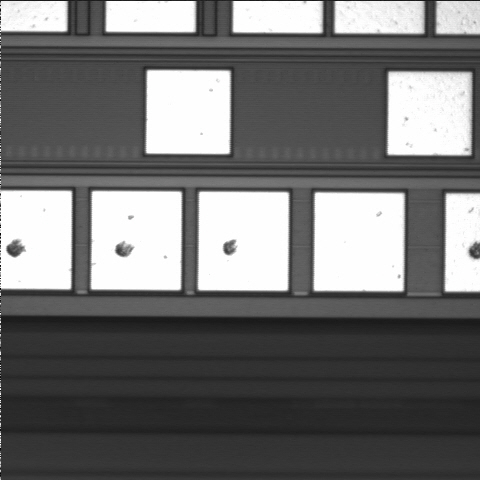pad: (198, 192, 289, 291), (91, 191, 181, 290), (314, 193, 404, 291), (146, 70, 230, 154), (388, 72, 471, 155)
